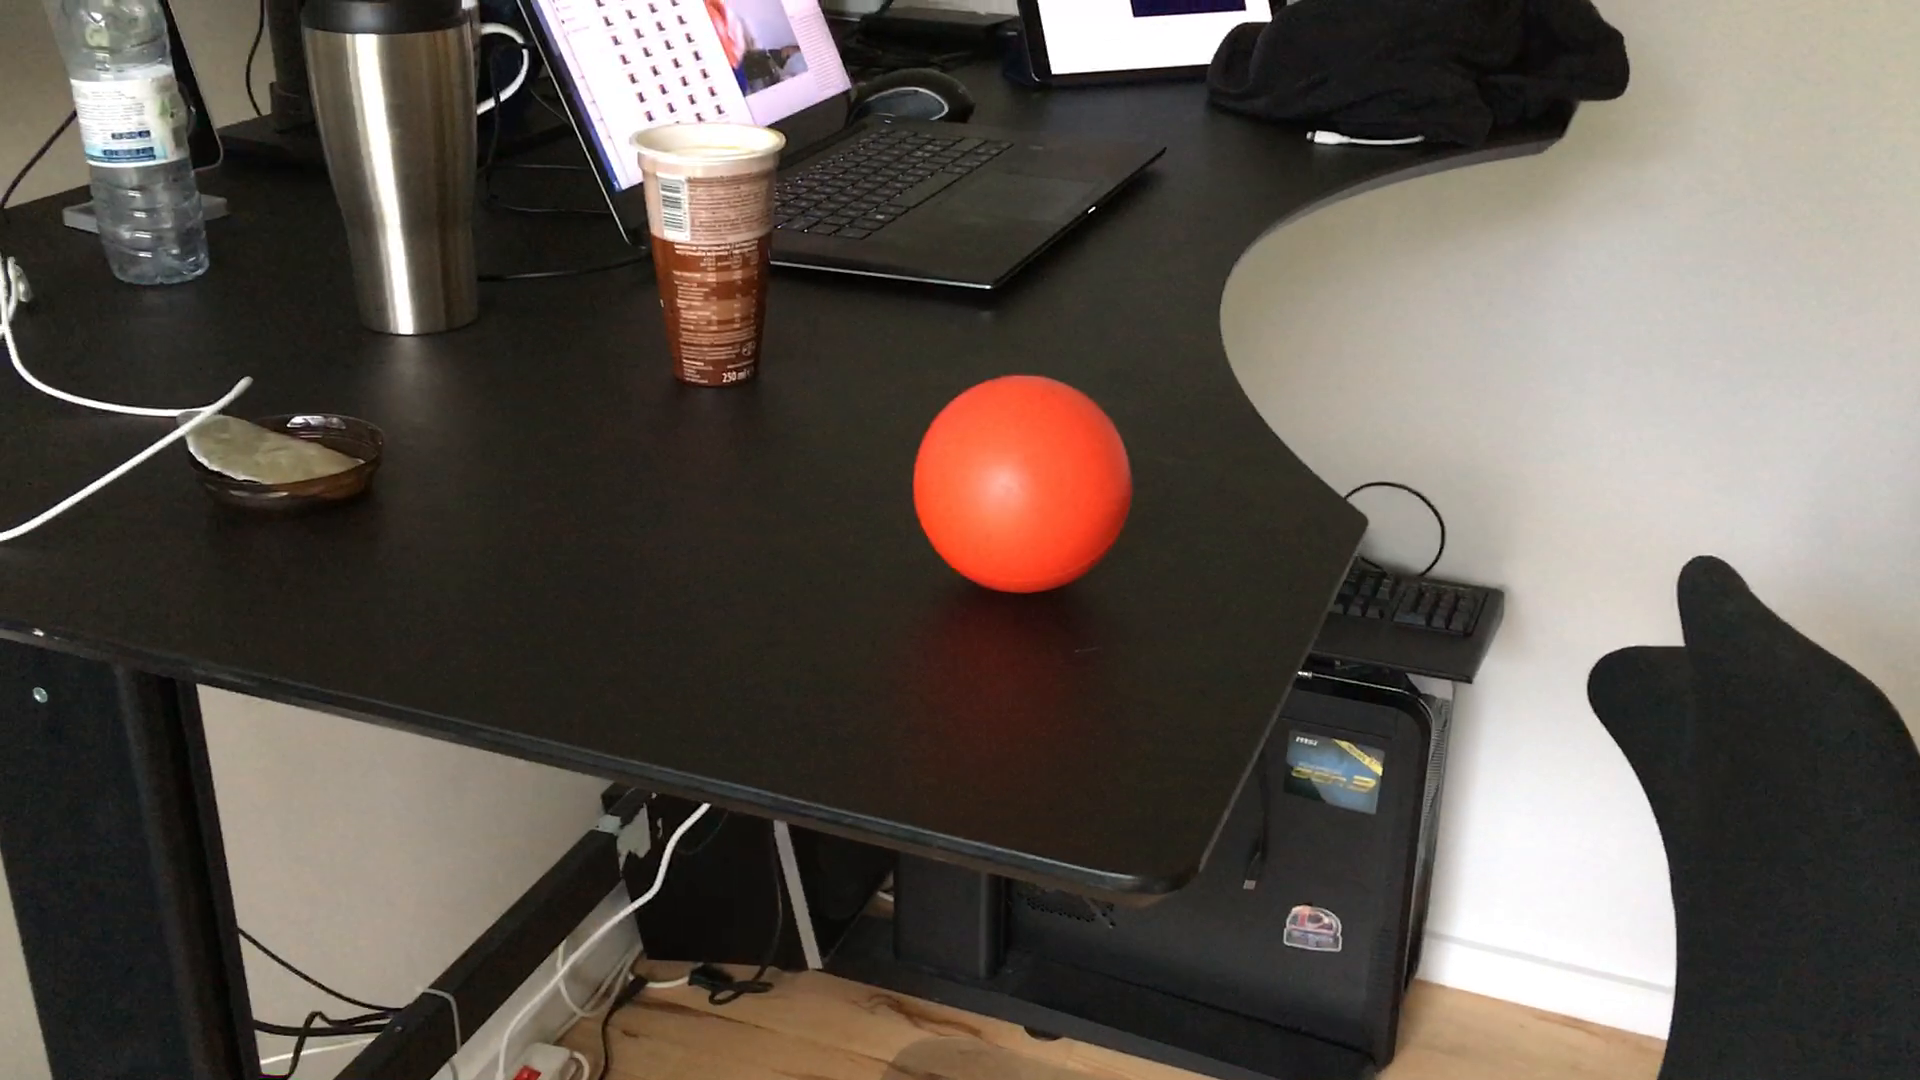Ball: (906, 375, 1141, 597)
